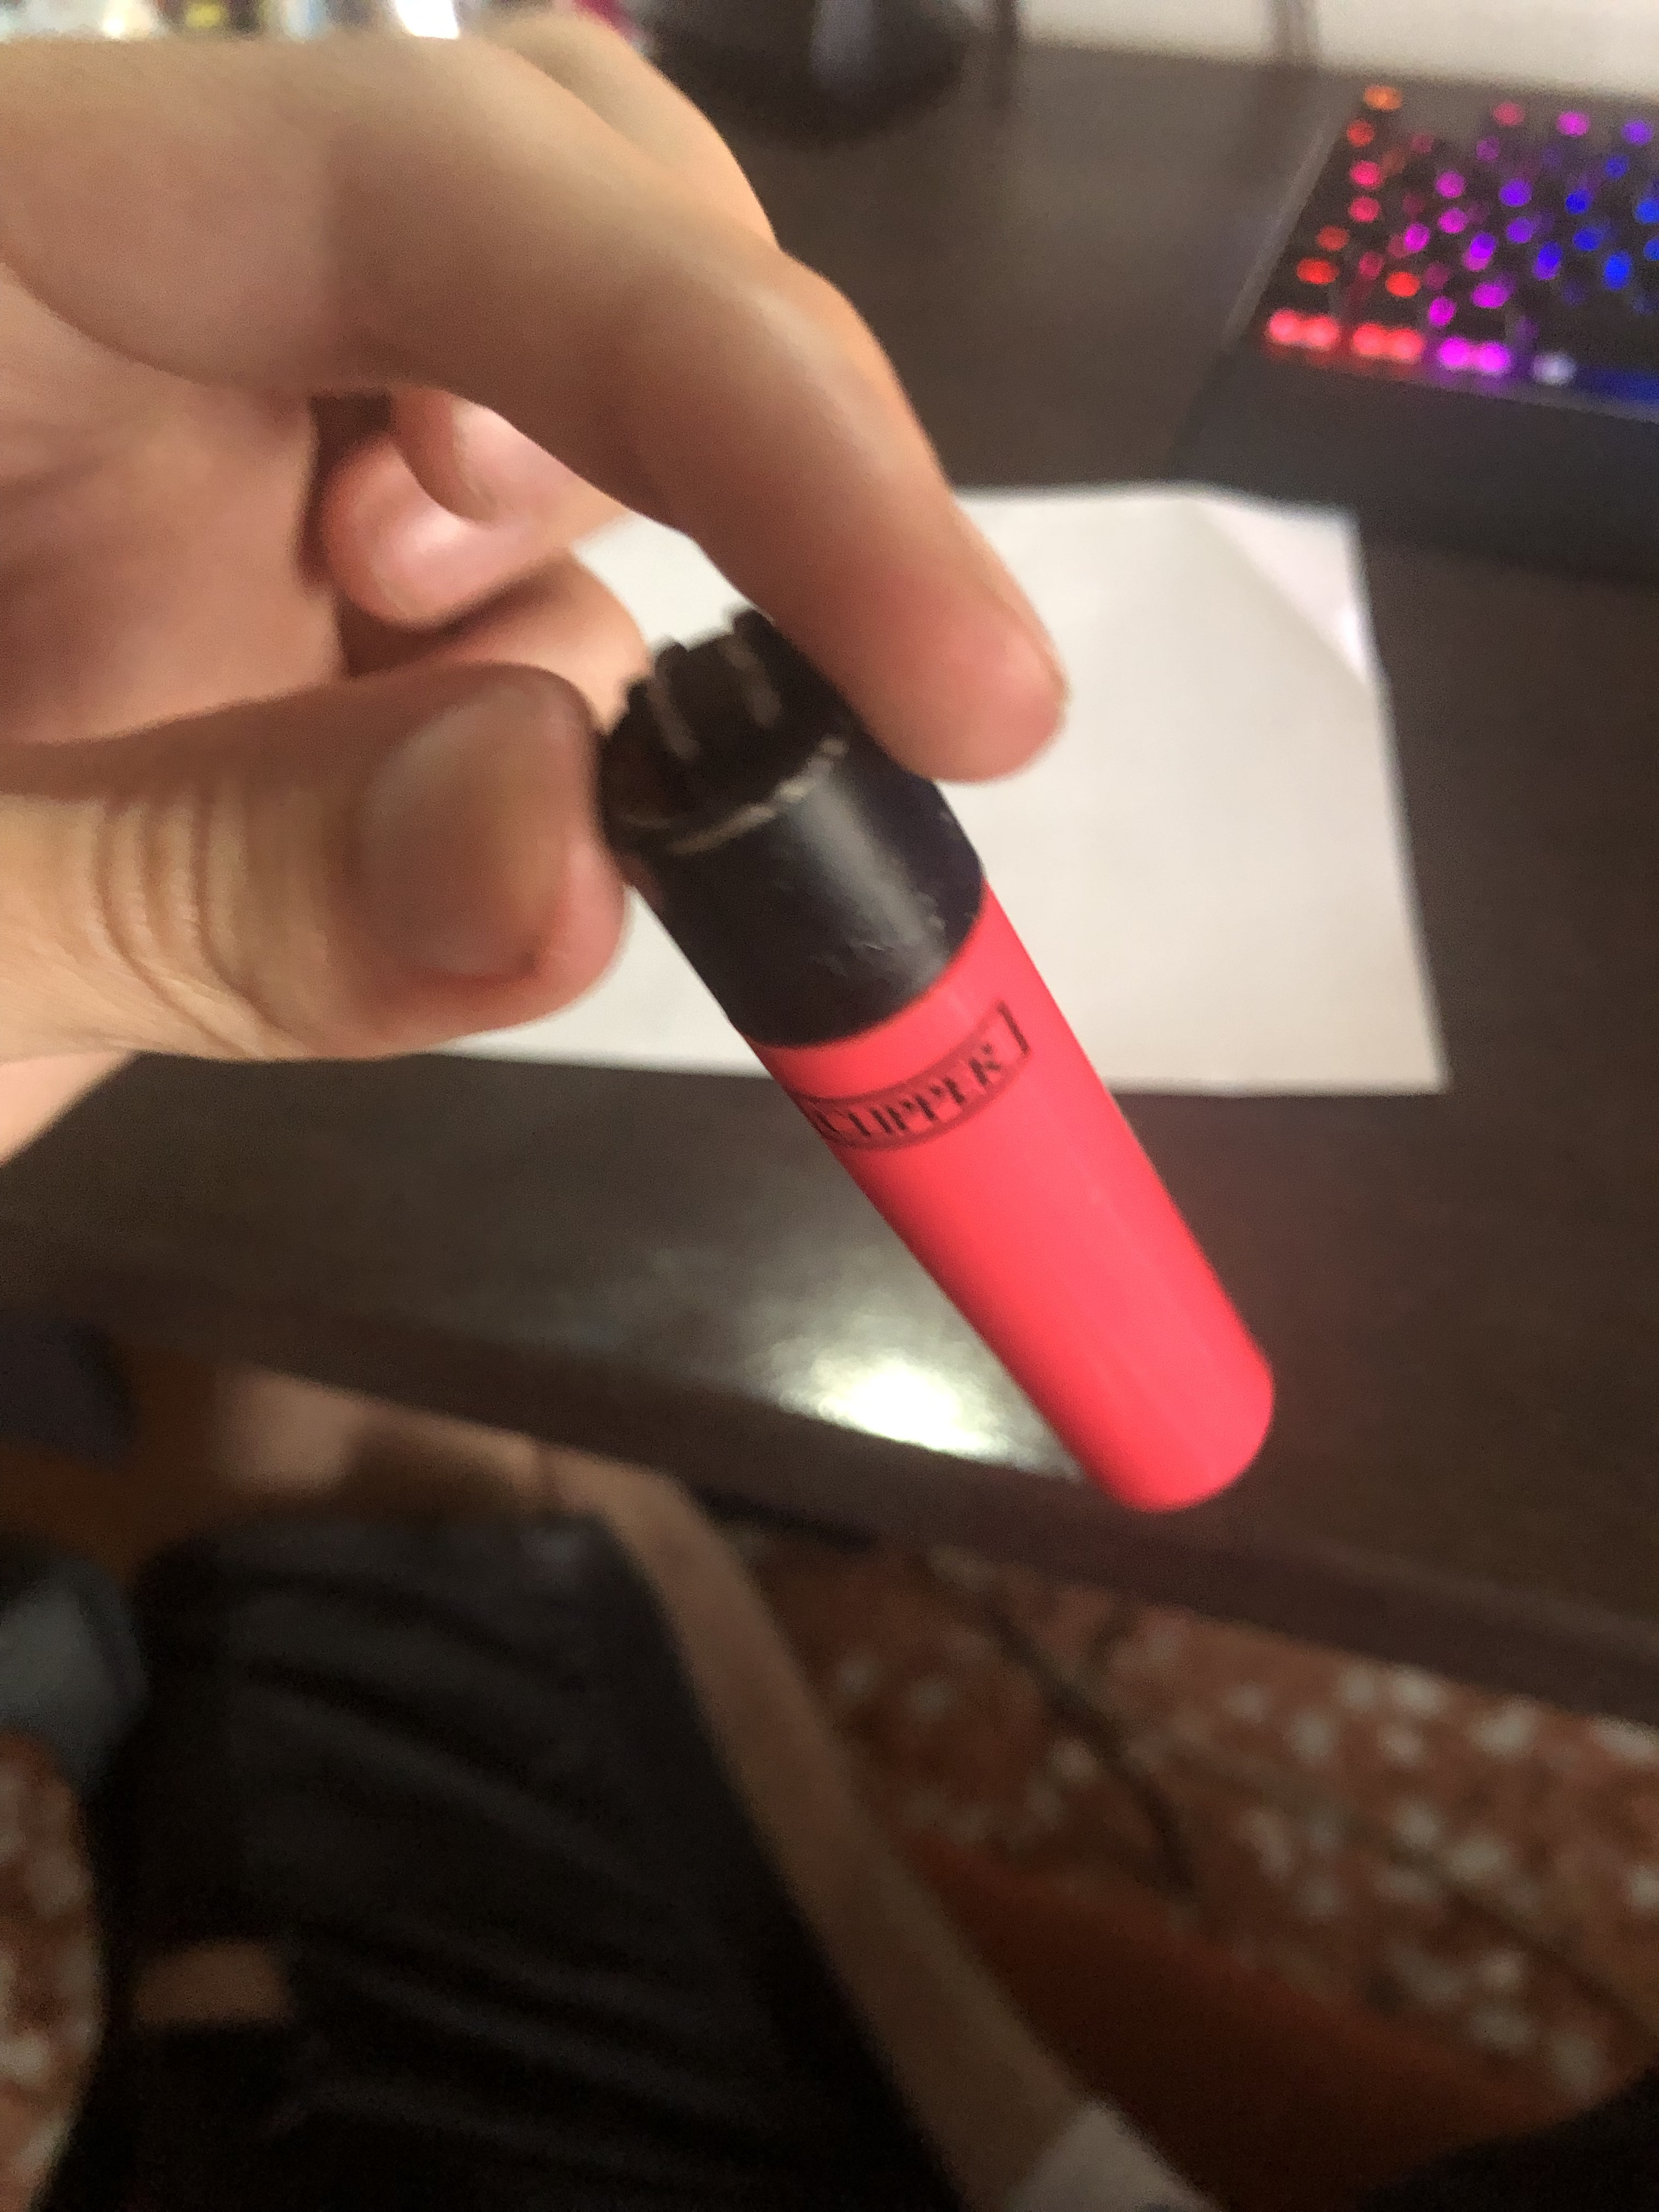Mechero: (552, 620, 1328, 1559)
